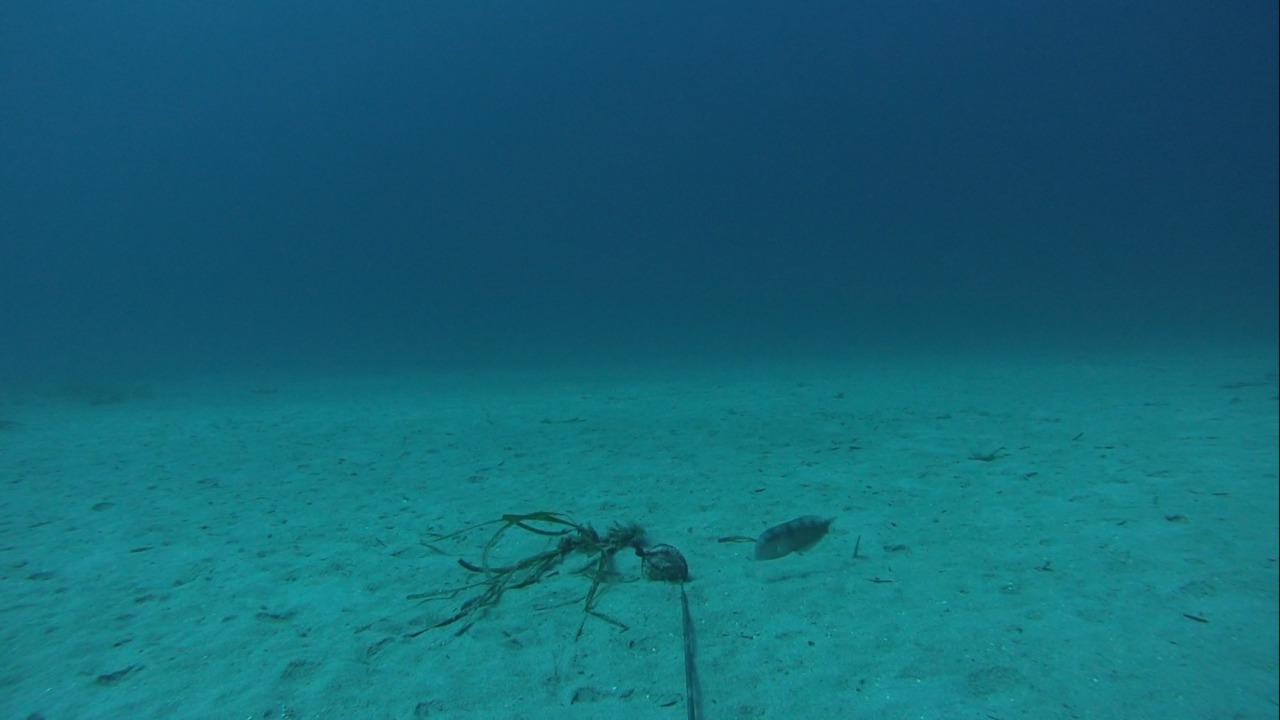raor: (749, 508, 837, 564)
